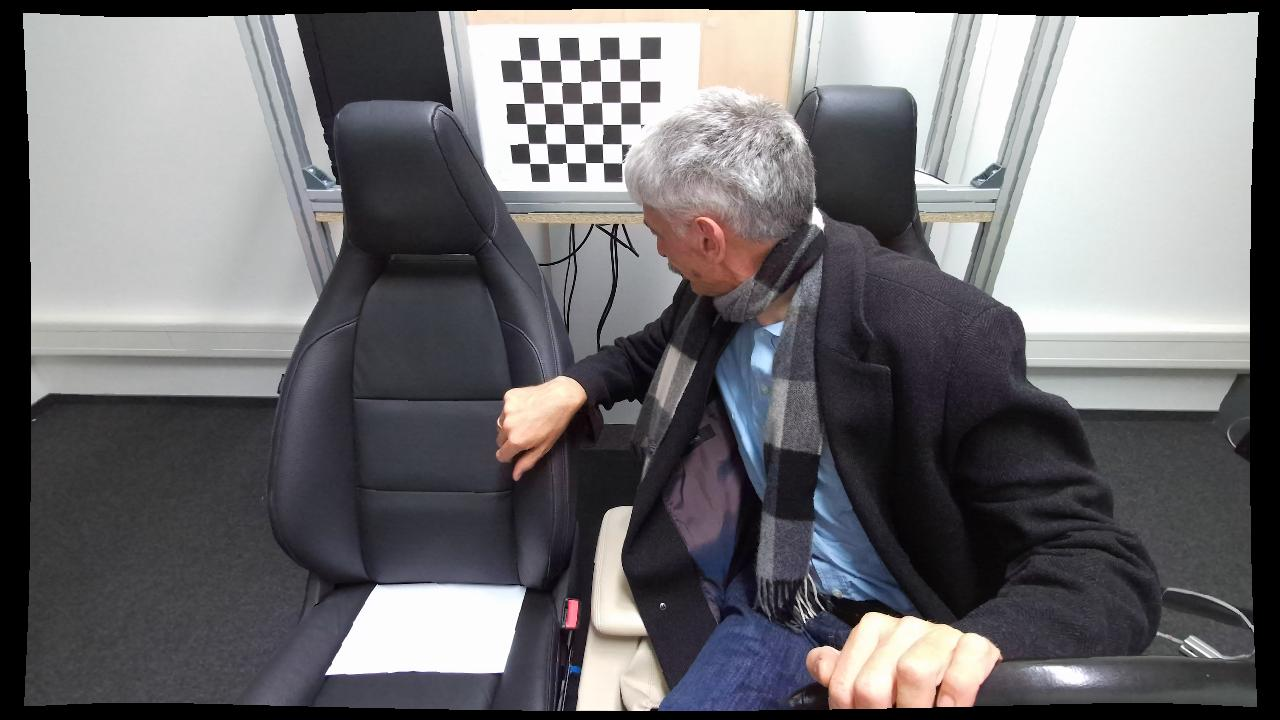Distracted: (596, 77, 1065, 711)
